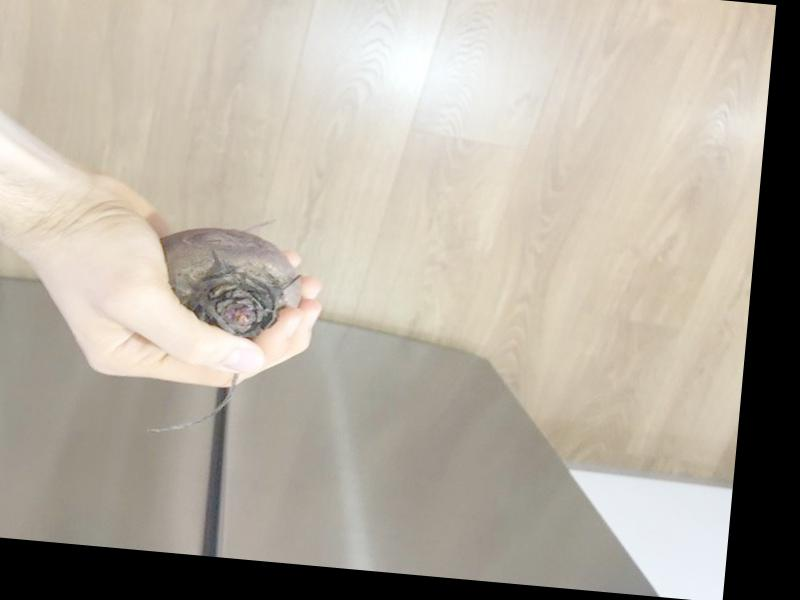Beet: (142, 223, 307, 445)
